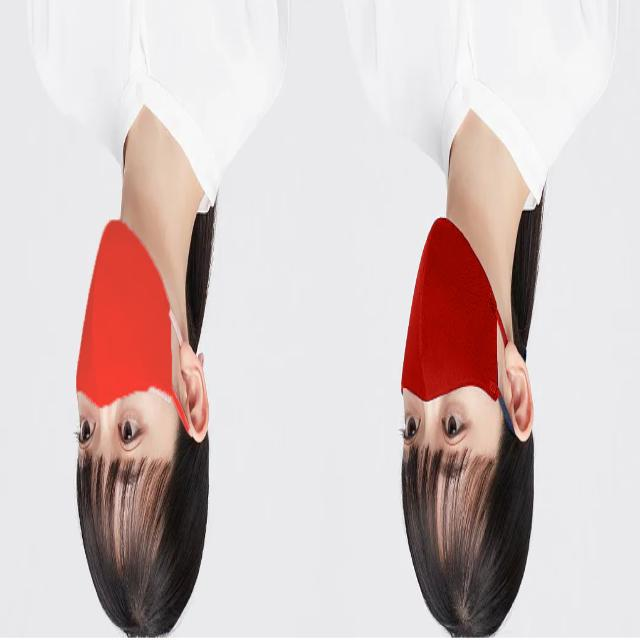Mask: (399, 213, 511, 408), (75, 217, 183, 412)
